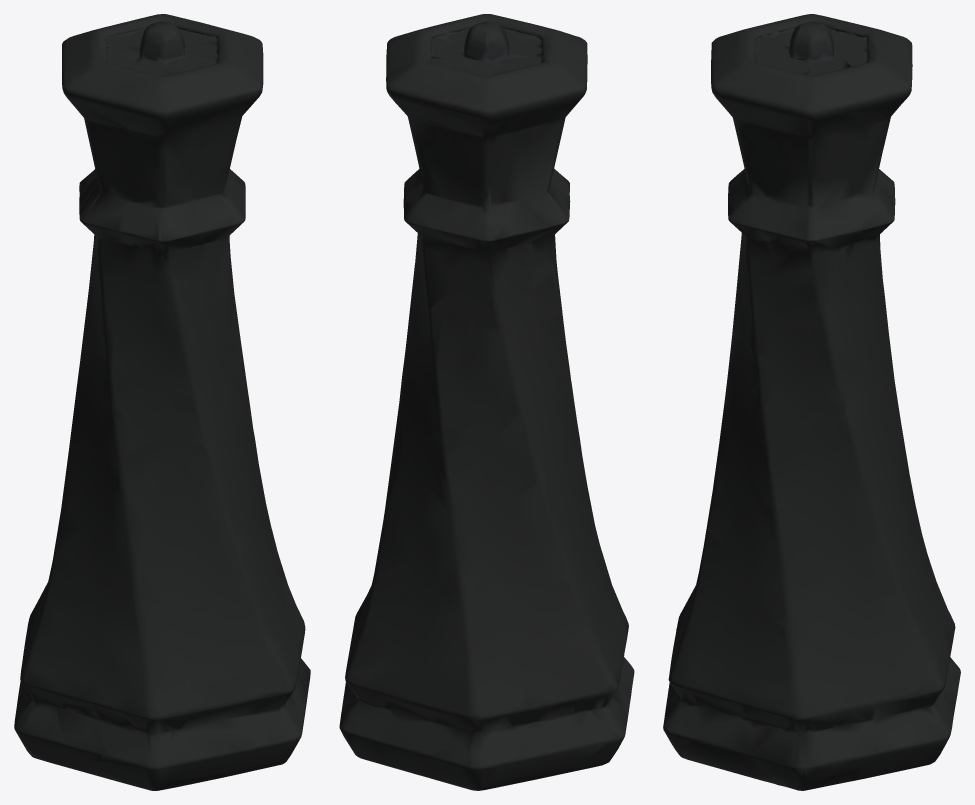
Rendered from queen-black.glb.
3 views of the same model, side by side, from view 1: azimuth 30°, elevation 25°; view 2: azimuth 150°, elevation 25°; view 3: azimuth 270°, elevation 25° (orthographic).
Bounding box in the file's own units: 0.6052 × 1.45 × 0.5535.
Materials: 1 (1 with a texture image).
